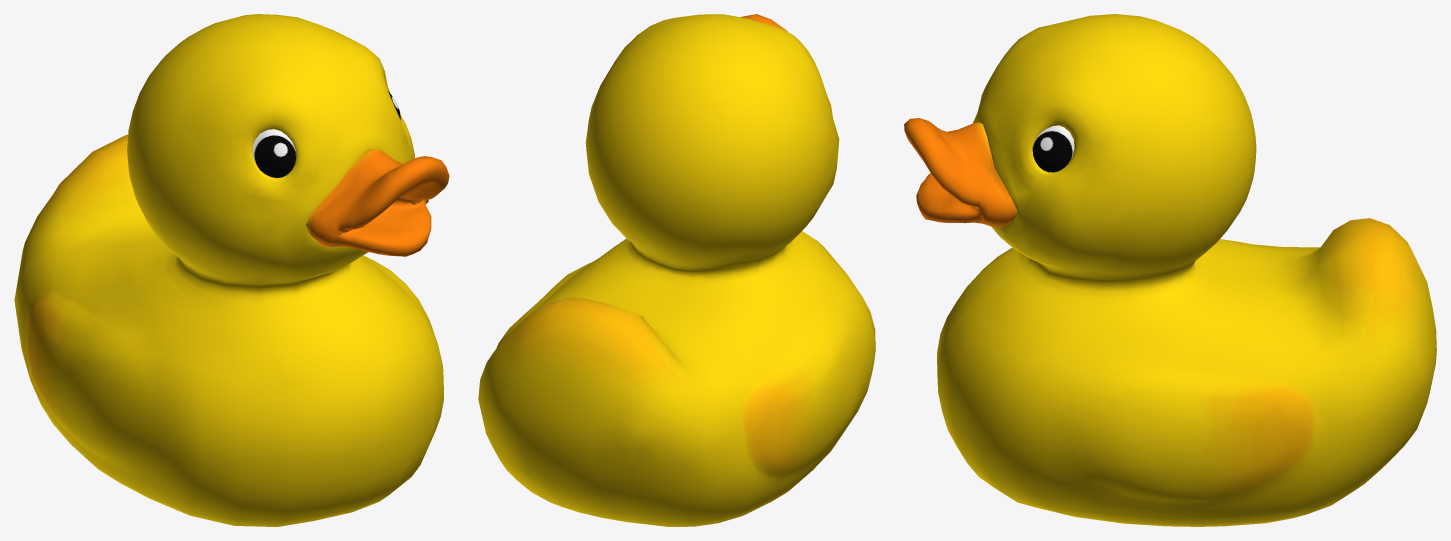
3 renders of one model, left to right at view 1: azimuth 30°, elevation 25°; view 2: azimuth 150°, elevation 25°; view 3: azimuth 270°, elevation 25°, orthographic. The views are drawn at different scales.
Visible parts, largest first — view 1: duck; view 2: duck; view 3: duck.
Boxes of the visible parts, left/top/right/bottom form: duck: left=14, top=14, right=449, bottom=526; duck: left=478, top=14, right=875, bottom=526; duck: left=904, top=14, right=1436, bottom=526.
Bounding box in the file's own units: 0.1877 × 0.2509 × 0.2695.
1 material, 1 textured.
